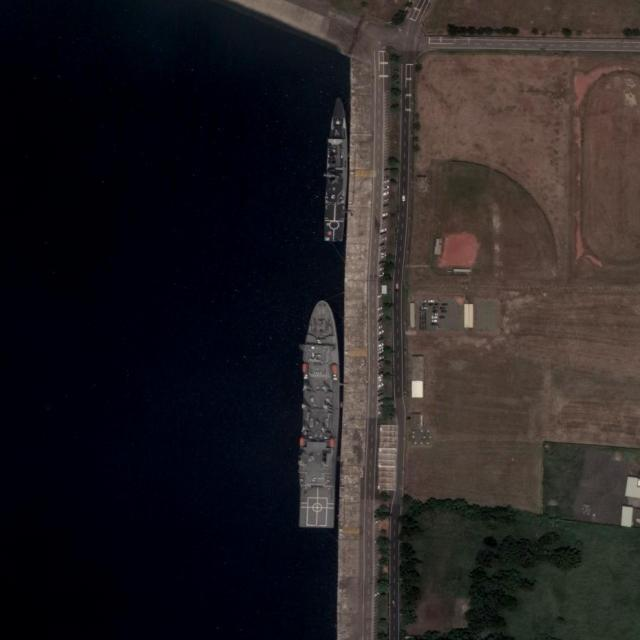Commander: (296, 300, 340, 530)
Other Warship: (324, 98, 348, 245)
